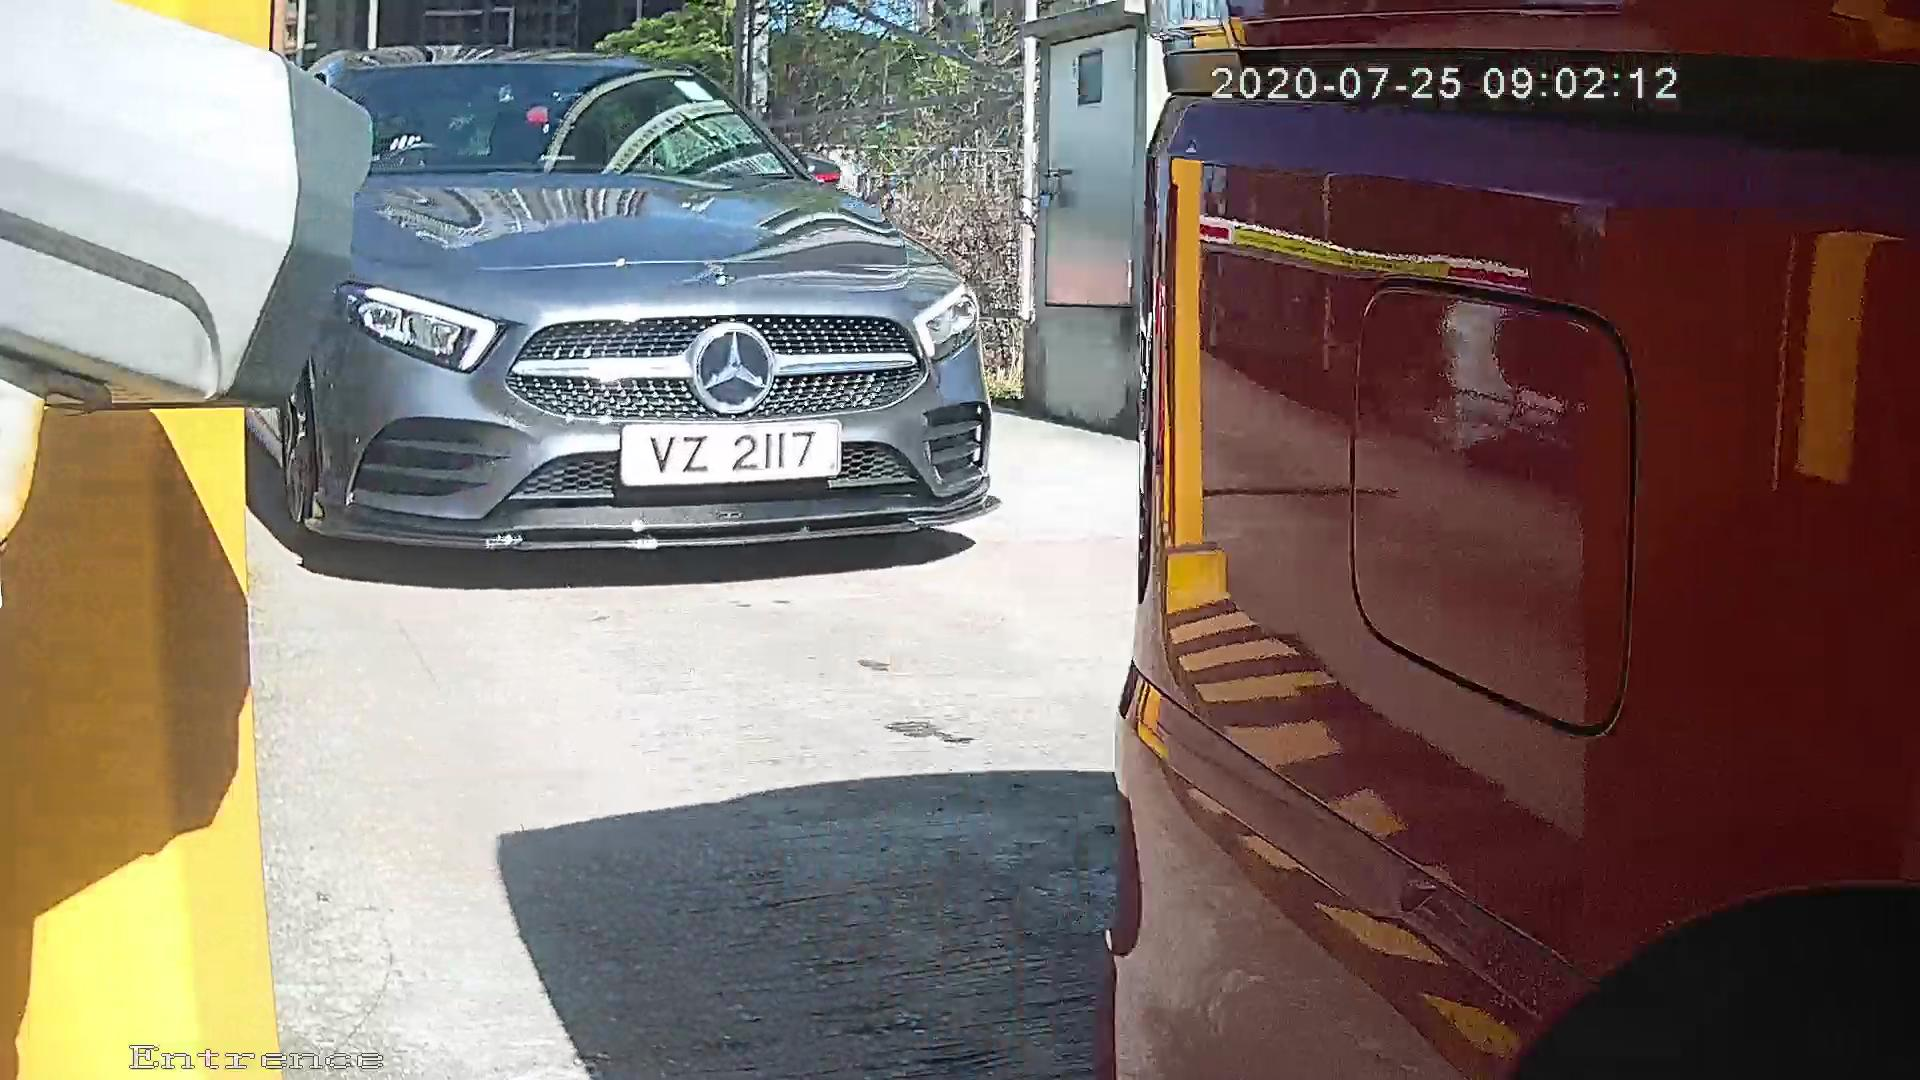License Plate: (591, 394, 889, 504)
